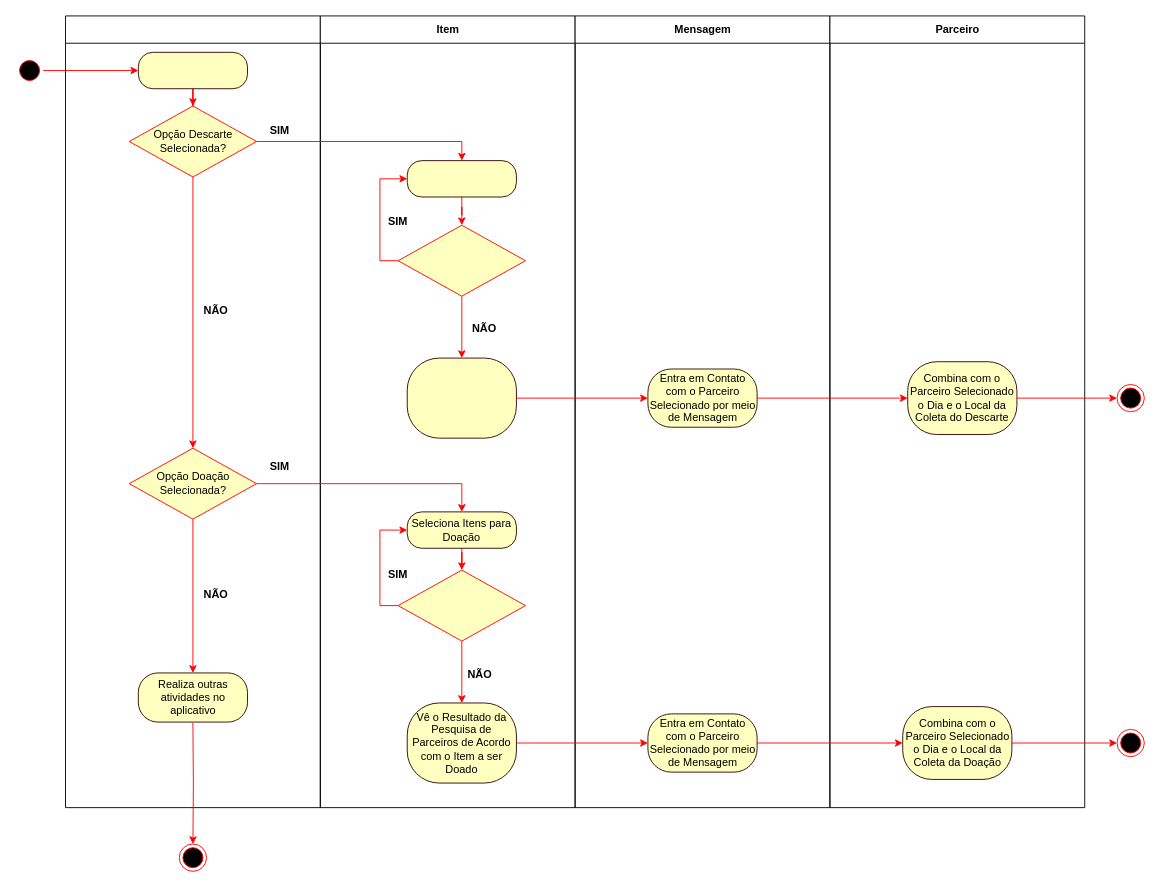
This 1160x887 diagram has some shape labels left out. Here are the shapes that lost their labels. From the top down, the box of each, then its label:
(137, 51, 248, 89): Fazer Login
(406, 160, 516, 197): Seleciona Itens para Descarte
(397, 224, 526, 296): Mais Itens a serem Descartados?
(65, 15, 320, 808): Usuário
(406, 357, 516, 438): Vê o Resultado da Pesquisa de Parceiros de Acordo com o Item a ser Descartado
(397, 569, 526, 641): Mais Itens a serem Doados?
